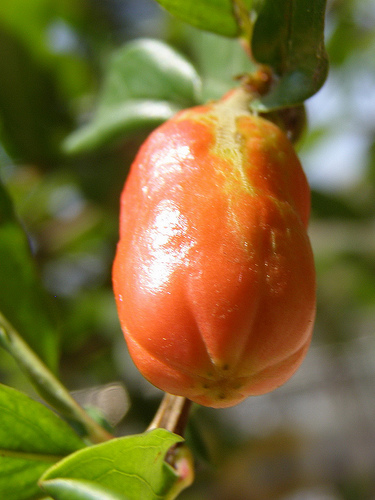pomogranate: (108, 68, 316, 411)
